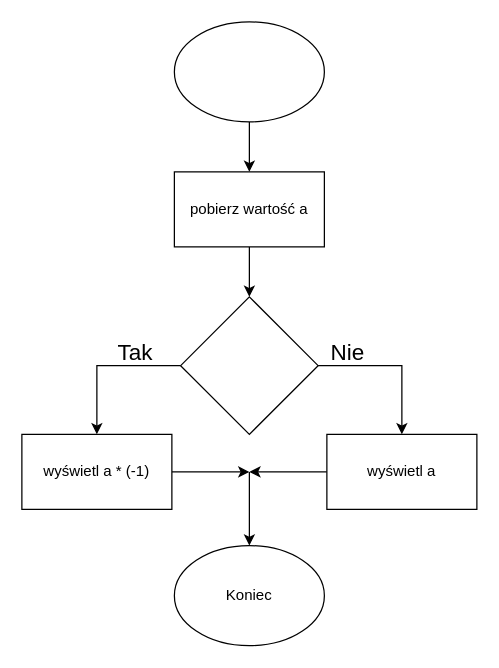
Image size: 499x668. Some labels were removed from this diagram. Each missing label, with the box of its shape:
a < 0: (179, 296, 318, 434)
Start: (173, 21, 324, 122)
